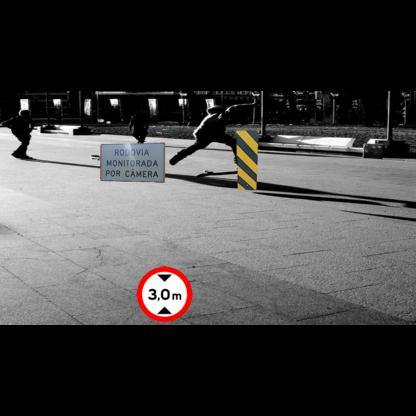I-E: (100, 142, 165, 183)
O-MP: (236, 131, 259, 190)
R-15: (136, 266, 192, 322)
